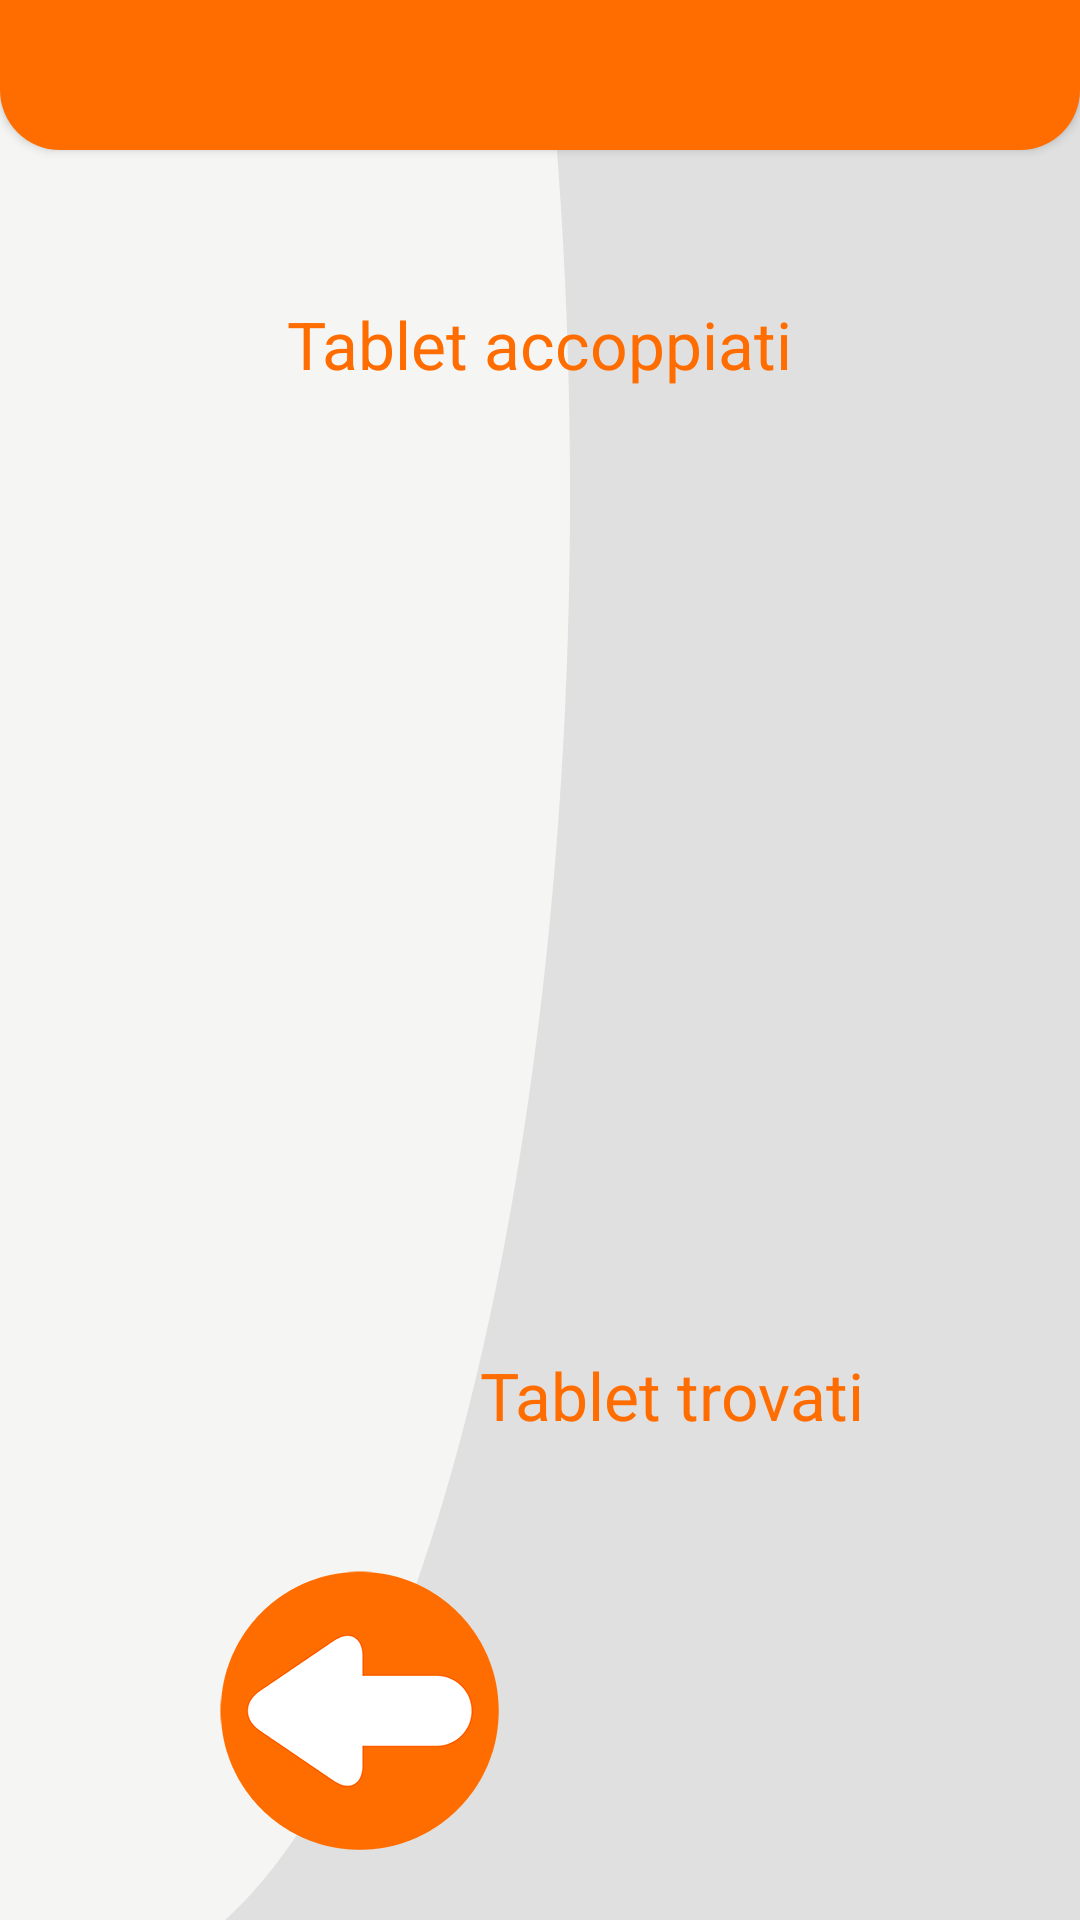

Where icons sit on this 1080 × 1920 app screen, as (x1, y1, x2, y2):
tasto indietro: (220, 1571, 499, 1850)
